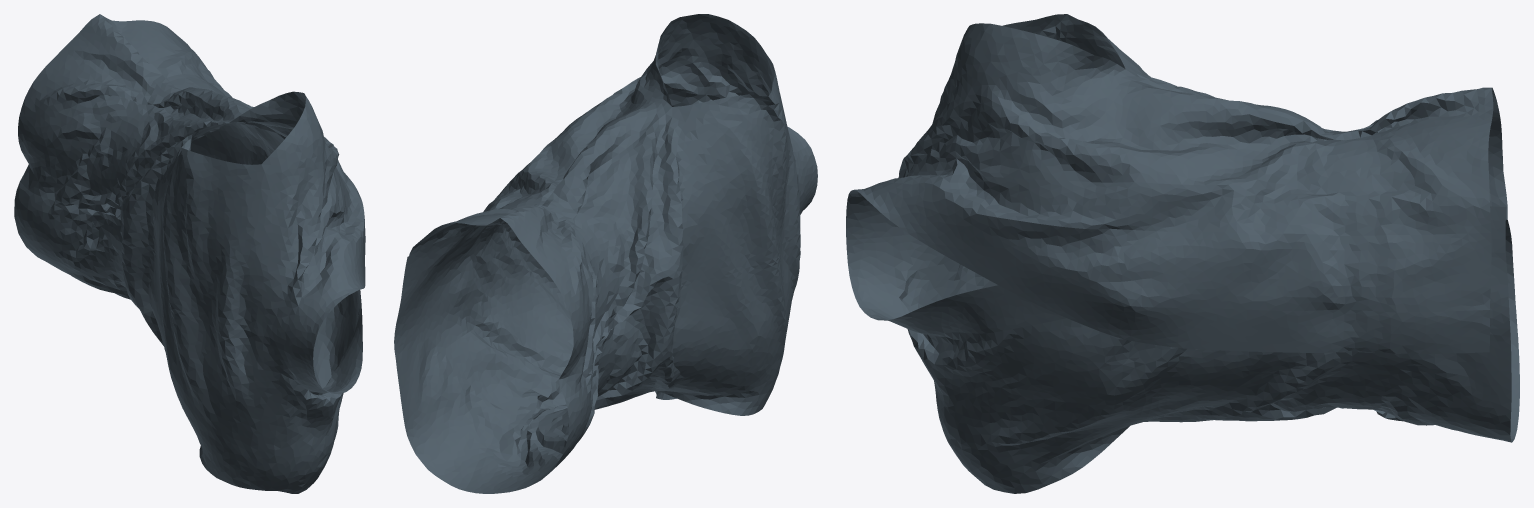
The model's file is kimono_inner_upper.glb.
The picture shows the model from 3 angles, left to right: view 1: azimuth 30°, elevation 25°; view 2: azimuth 150°, elevation 25°; view 3: azimuth 270°, elevation 25°; orthographic projection. The views are drawn at different scales.
Parts seen in each view (by area): view 1: kimono_inner_upper; view 2: kimono_inner_upper; view 3: kimono_inner_upper.
Part boxes in pixels (left/top/right/bottom): kimono_inner_upper: left=14, top=14, right=365, bottom=493; kimono_inner_upper: left=394, top=14, right=817, bottom=493; kimono_inner_upper: left=846, top=14, right=1519, bottom=493.
Size of the model in its own units: 0.2552 by 0.4308 by 0.5665.
